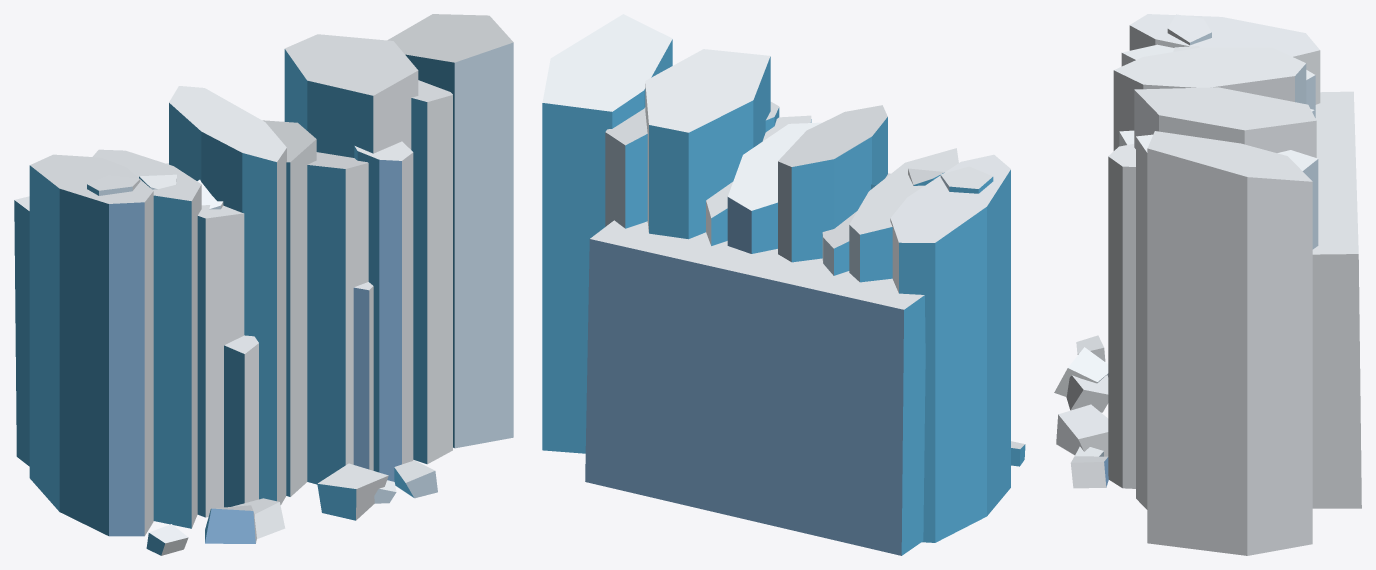
Rendered from GlacierWallA.fbx.
3 views of the same model, side by side, from view 1: azimuth 30°, elevation 25°; view 2: azimuth 150°, elevation 25°; view 3: azimuth 270°, elevation 25° (orthographic). The views are drawn at different scales.
Parts seen in each view (by area): view 1: GlacierWallA; view 2: GlacierWallA; view 3: GlacierWallA.
Part boxes in pixels (bbox=[...]): GlacierWallA: bbox=[14, 14, 513, 555]; GlacierWallA: bbox=[542, 14, 1025, 555]; GlacierWallA: bbox=[1054, 14, 1361, 555].
Size of the model in its own units: 9.96 by 8.5 by 6.
Materials: 1 (1 with a texture image).
